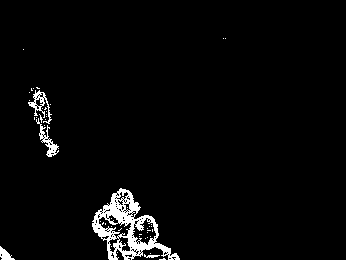person: (24, 83, 65, 158)
